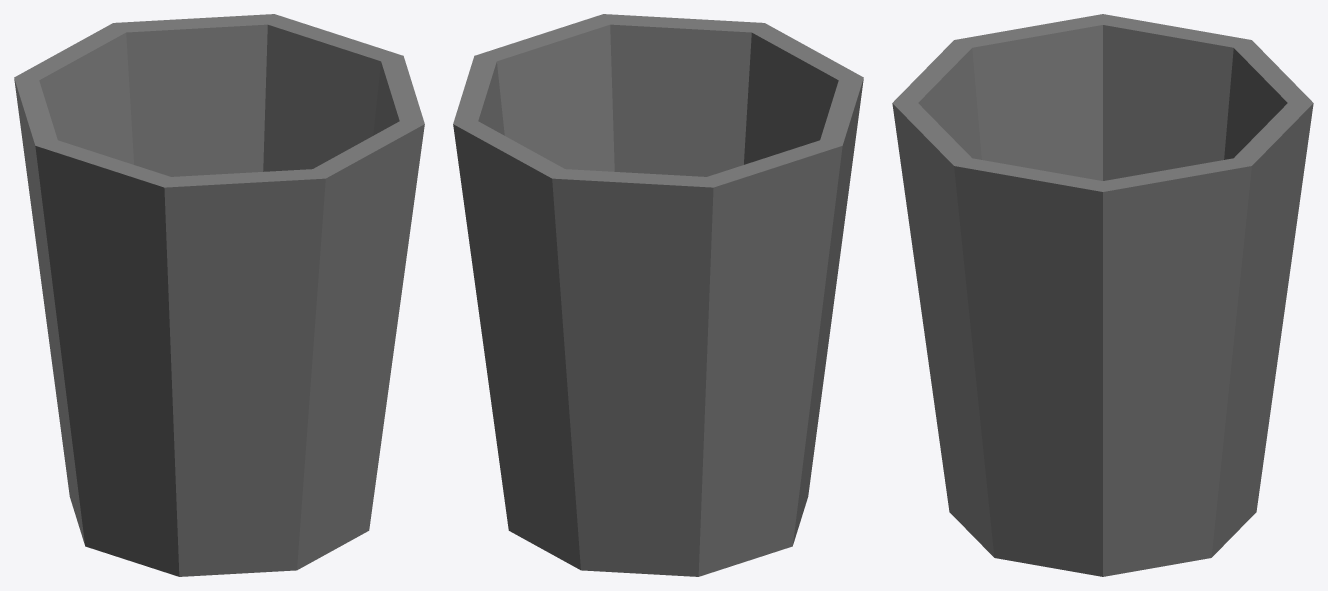
The model's file is bin.fbx.
3 views of the same model, side by side, from view 1: azimuth 30°, elevation 25°; view 2: azimuth 150°, elevation 25°; view 3: azimuth 270°, elevation 25° (orthographic).
Parts seen in each view (by area): view 1: bin; view 2: bin; view 3: bin.
Part boxes in pixels (x1,y1,x2,y2): bin: [14, 14, 424, 576]; bin: [453, 14, 863, 576]; bin: [892, 14, 1313, 576].
Size of the model in its own units: 71.8 by 76.91 by 71.8.
Materials: 1 (1 with a texture image).
